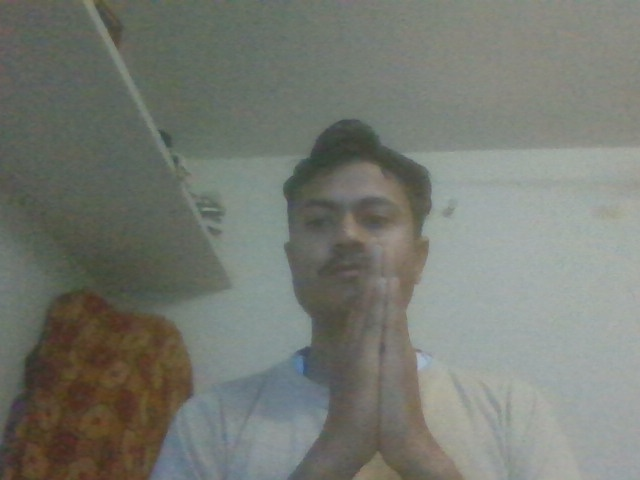Namaste: (331, 241, 457, 468)
